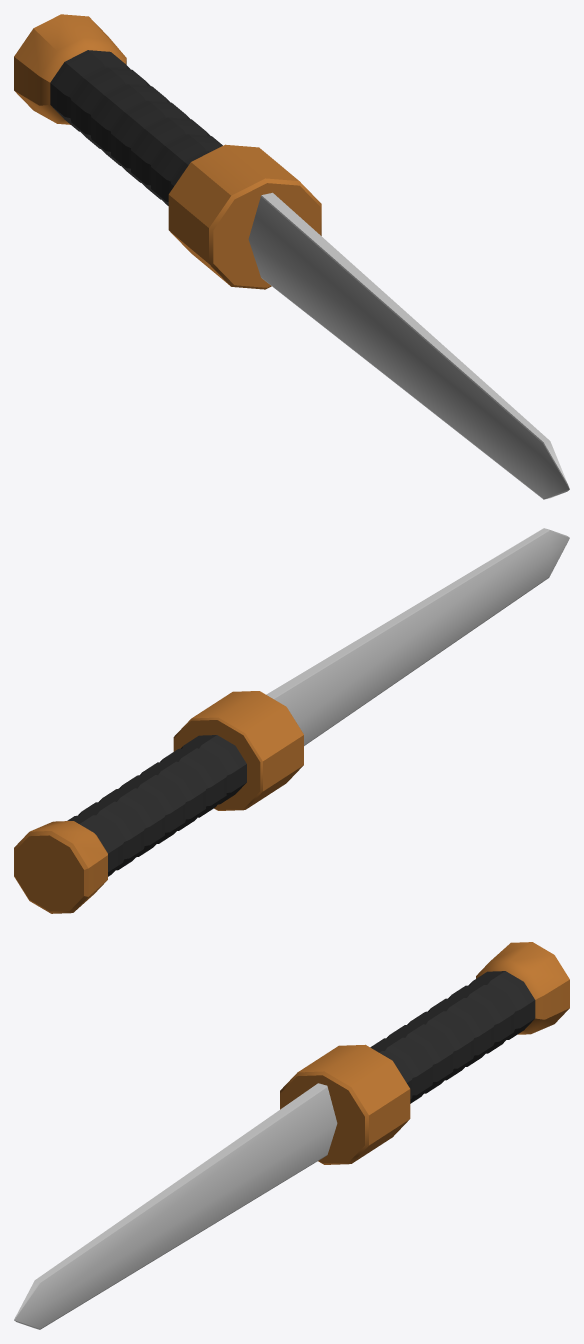
File: DaggerBasic.fbx
The picture shows the model from 3 angles, top to bottom: view 1: azimuth 30°, elevation 25°; view 2: azimuth 150°, elevation 25°; view 3: azimuth 330°, elevation 25°; orthographic projection. The views are drawn at different scales.
Visible parts, largest first — view 1: Dagger_Basic_Blade, Handle, HandleGuard, HandleBase; view 2: Dagger_Basic_Blade, Handle, HandleGuard, HandleBase; view 3: Dagger_Basic_Blade, Handle, HandleGuard, HandleBase.
Part boxes in pixels (box(x1,y1,x2,y2)): Dagger_Basic_Blade: box(248, 192, 569, 499); Handle: box(50, 50, 222, 205); HandleGuard: box(168, 144, 321, 289); HandleBase: box(14, 14, 126, 124); Dagger_Basic_Blade: box(266, 528, 569, 745); Handle: box(67, 735, 246, 876); HandleGuard: box(173, 691, 303, 810); HandleBase: box(14, 821, 107, 913); Dagger_Basic_Blade: box(14, 1083, 337, 1329); Handle: box(370, 971, 535, 1103); HandleGuard: box(280, 1044, 410, 1164); HandleBase: box(476, 942, 569, 1034).
Size of the model in its own units: 15.74 by 13.72 by 127.
